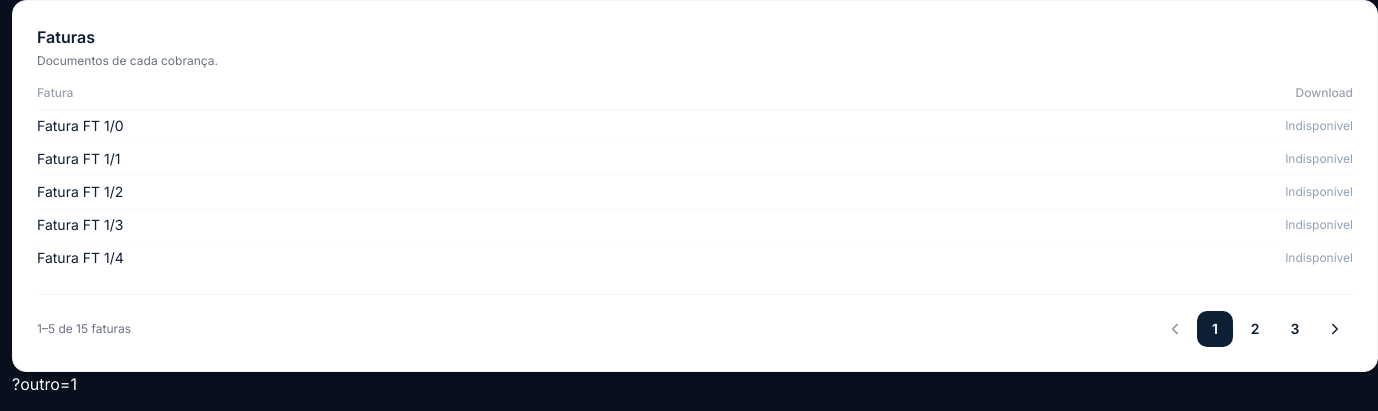
Faturas: página no endereço › mudar de página escreve-a no endereço sem apagar outros parâmetros
expect the text "Fatura FT 1/0" is shown: met, box 37,117 -> 124,134
Click the button named "Página 3": {"x": 1295, "y": 329} 1277,311 -> 1313,347
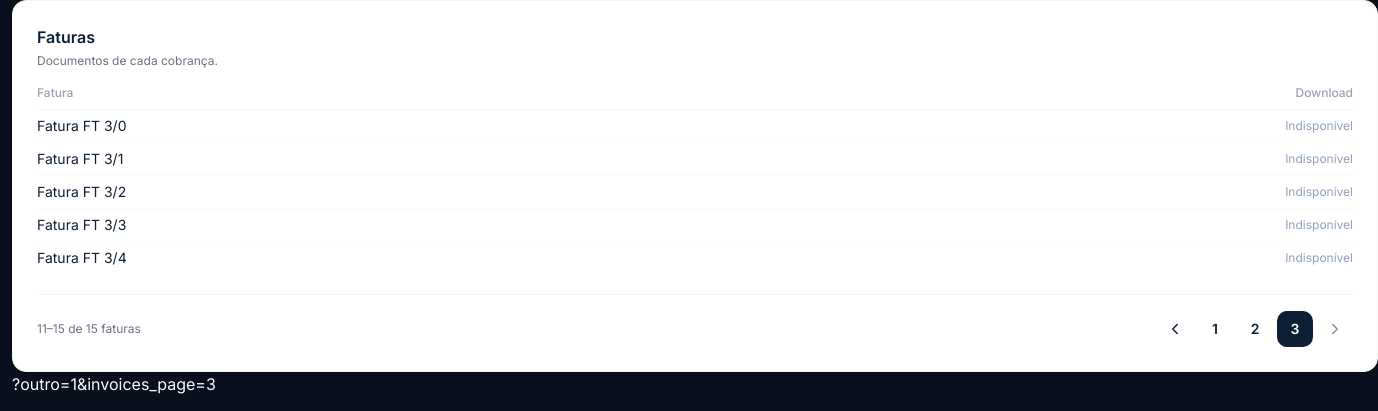
expect the text with test id "location" reads "?outro=1&invoices_page=3": met, box 12,374 -> 216,394
expect the text "Fatura FT 3/0" is shown: met, box 37,117 -> 126,134
